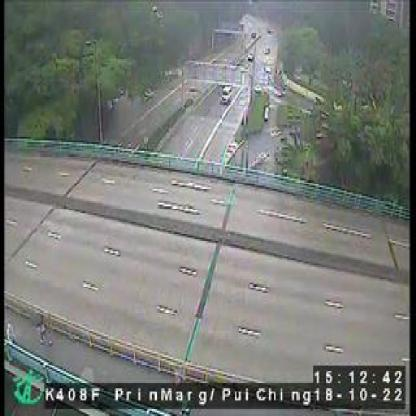Car: (220, 86, 233, 106)
